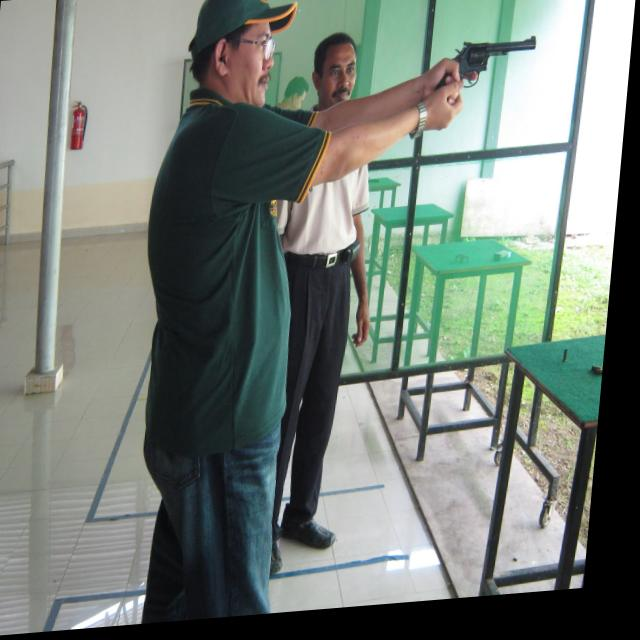handgun: (444, 37, 539, 100)
